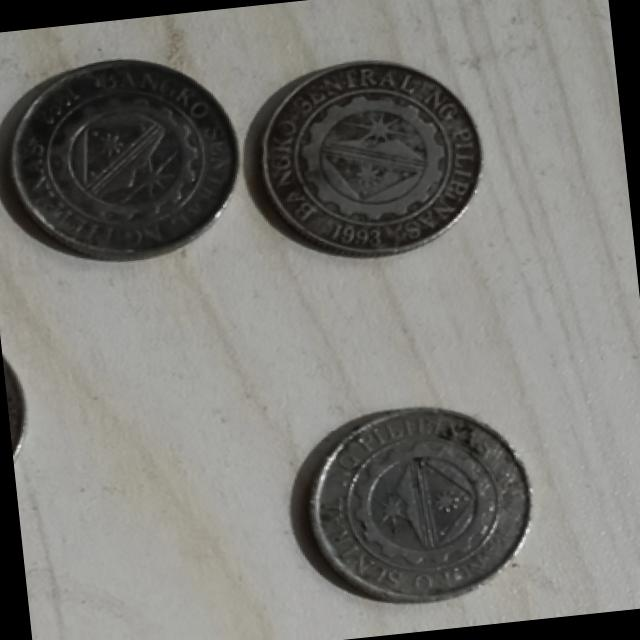1_peso: (13, 59, 237, 258), (310, 408, 530, 601), (261, 63, 480, 255)
